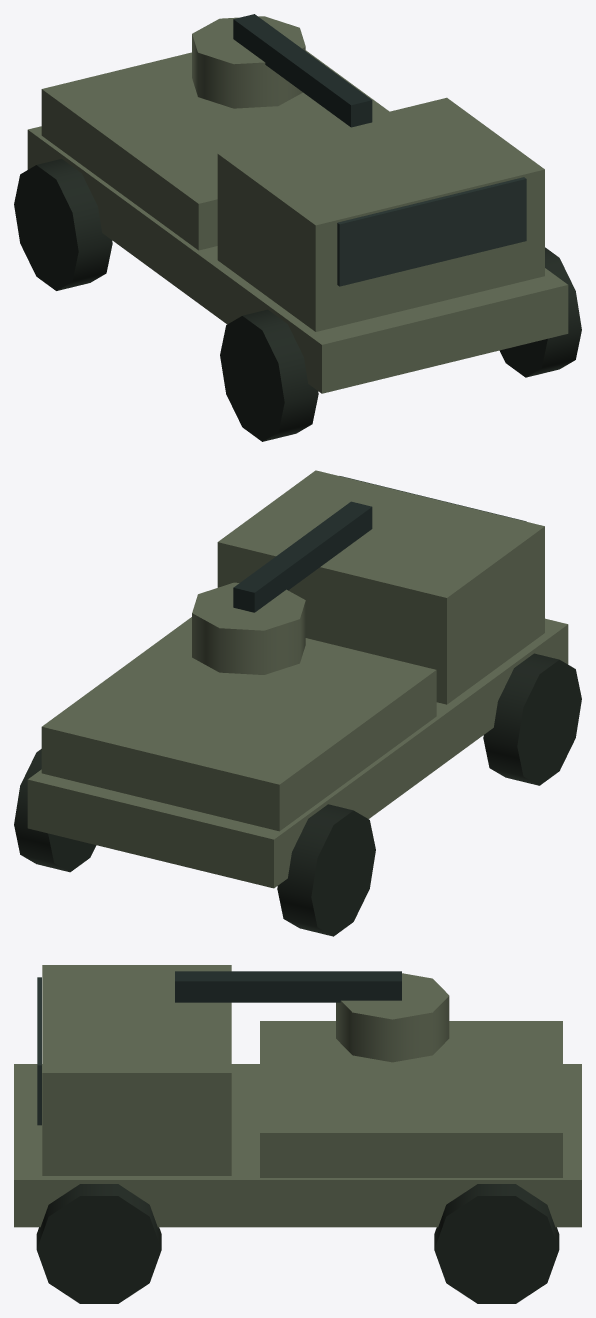
Rendered from technical.glb.
The picture shows the model from 3 angles, top to bottom: view 1: azimuth 30°, elevation 25°; view 2: azimuth 150°, elevation 25°; view 3: azimuth 270°, elevation 25°; orthographic projection. The views are drawn at different scales.
Visible parts, largest first — view 1: technical; view 2: technical; view 3: technical.
Boxes of the visible parts, x1,y1,x2,y2 form: technical: [14, 14, 581, 441]; technical: [14, 470, 581, 936]; technical: [14, 965, 581, 1303].
Bounding box in the file's own units: 3.5 × 3 × 6.
